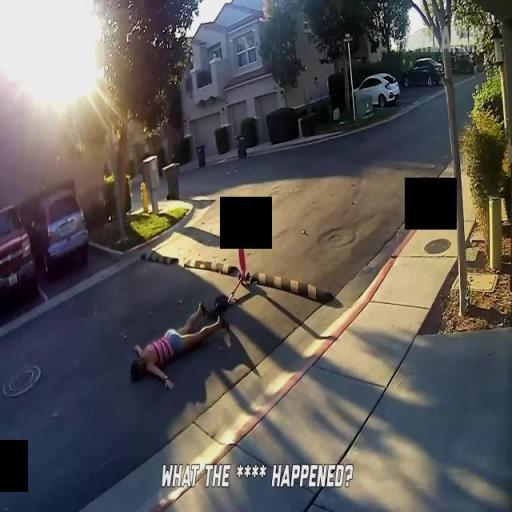Fall: (126, 302, 238, 390)
